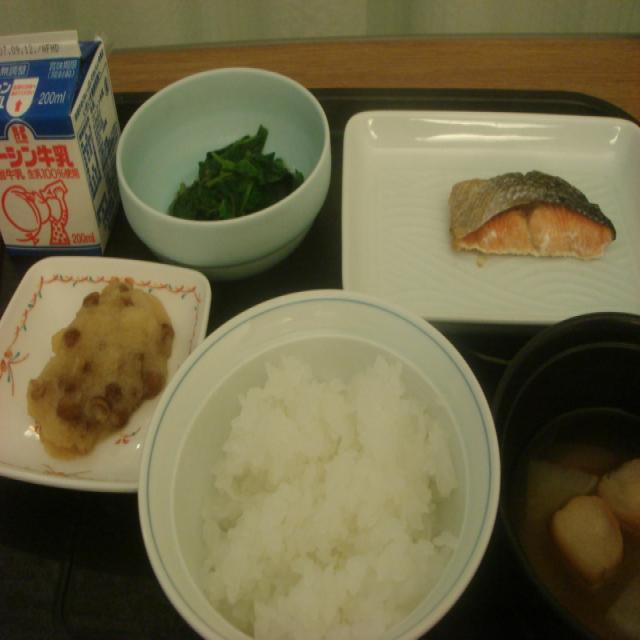熟制海鲜: (425, 139, 640, 273)
